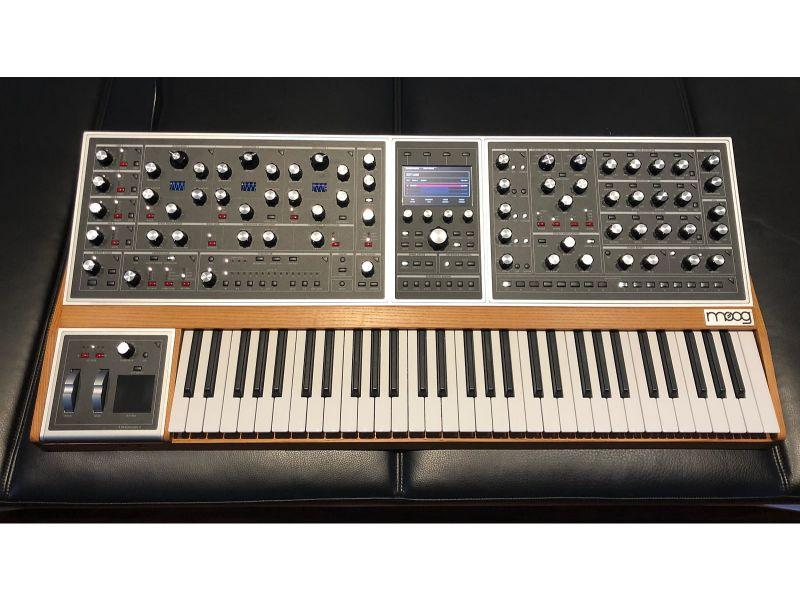synthesizer: (29, 118, 786, 455)
